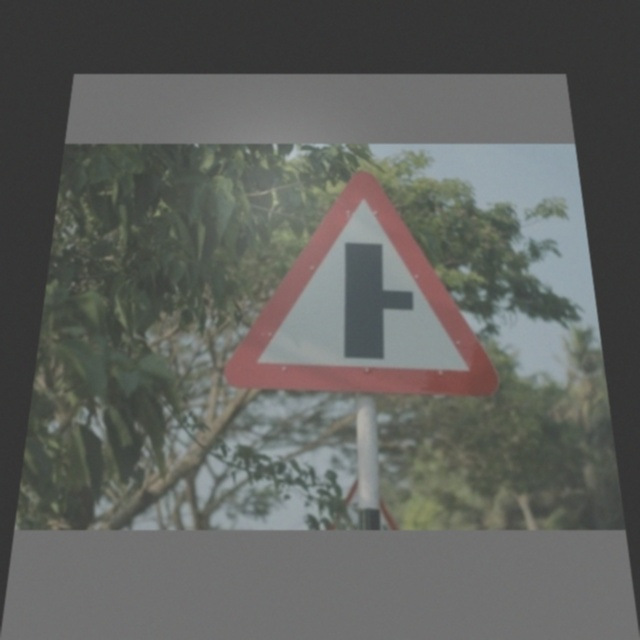Side_Road_Right: (238, 174, 496, 397)
